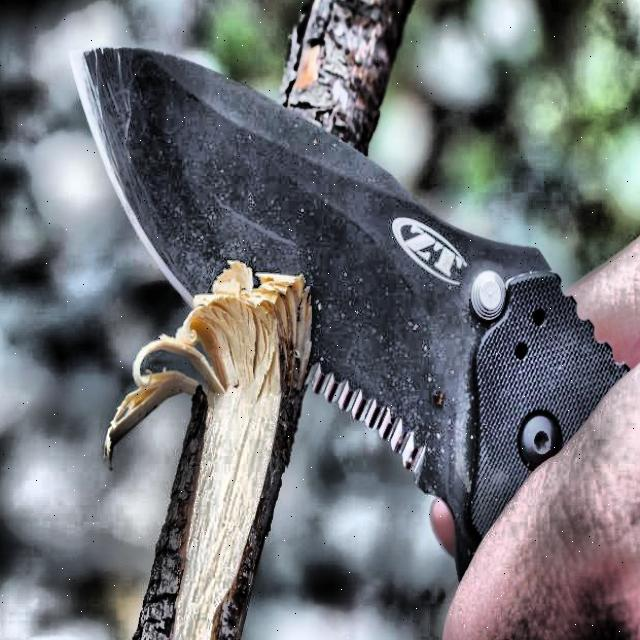knife: (71, 47, 627, 580)
